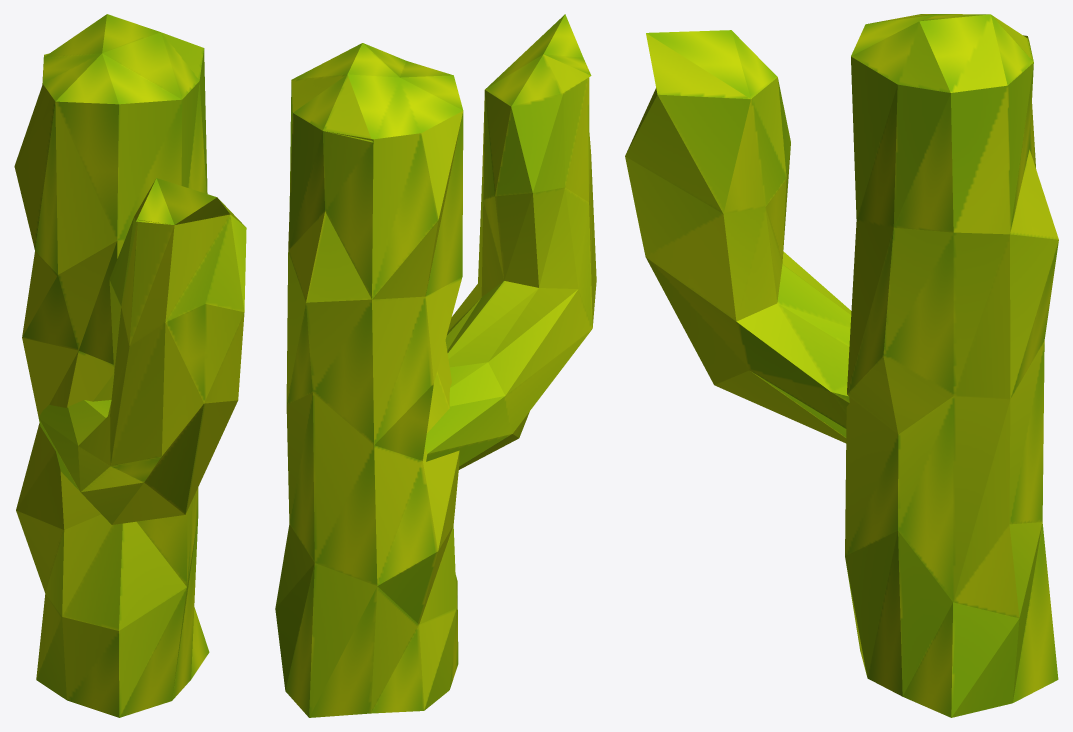
The model's file is kaktus2.fbx.
3 views of the same model, side by side, from view 1: azimuth 30°, elevation 25°; view 2: azimuth 150°, elevation 25°; view 3: azimuth 270°, elevation 25° (orthographic). The views are drawn at different scales.
Parts seen in each view (by area): view 1: kaktus2_1; view 2: kaktus2_1; view 3: kaktus2_1.
Boxes of the visible parts, x1,y1,x2,y2 form: kaktus2_1: (14, 14, 246, 717); kaktus2_1: (275, 14, 596, 717); kaktus2_1: (625, 14, 1058, 717).
Bounding box in the file's own units: 139 × 411 × 243.
